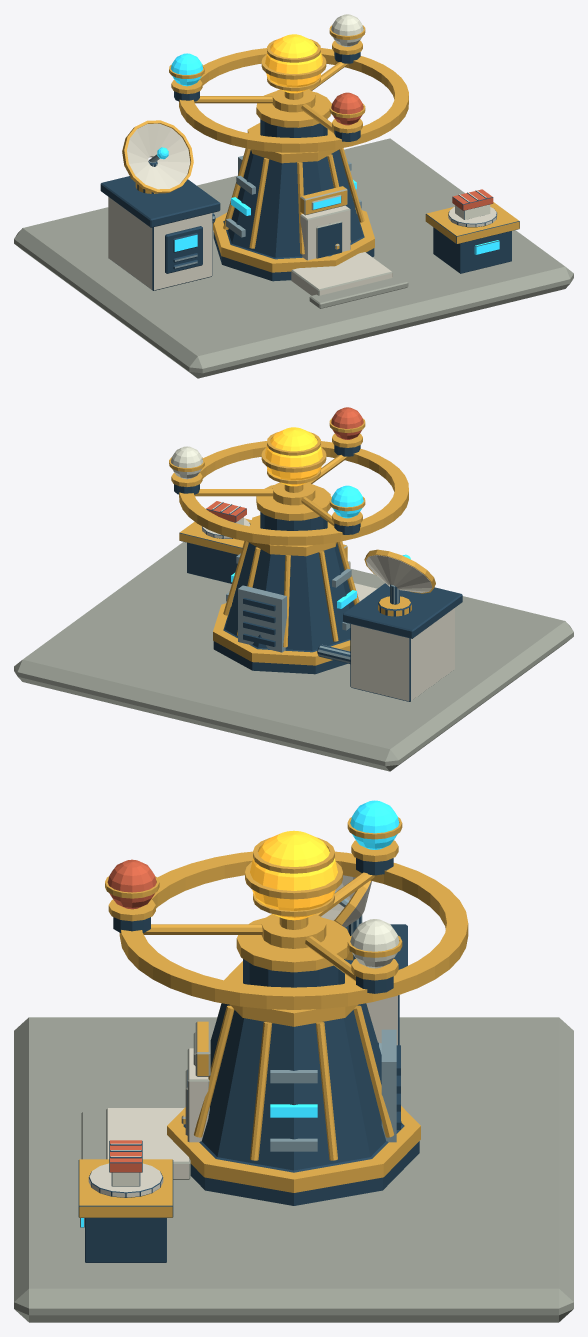
The model's file is sync-lv1.glb.
The picture shows the model from 3 angles, top to bottom: view 1: azimuth 30°, elevation 25°; view 2: azimuth 150°, elevation 25°; view 3: azimuth 270°, elevation 25°; orthographic projection. The views are drawn at different scales.
Visible parts, largest first — view 1: Sync_L1, Planetary_Rail, Concave_Dish; view 2: Sync_L1, Planetary_Rail, Concave_Dish; view 3: Sync_L1, Planetary_Rail, Concave_Dish.
Boxes of the visible parts, box(x1,y1,x2,y2) form: Sync_L1: box(14, 34, 573, 378); Planetary_Rail: box(169, 14, 408, 152); Concave_Dish: box(122, 120, 193, 193); Sync_L1: box(14, 427, 573, 771); Planetary_Rail: box(169, 407, 408, 545); Concave_Dish: box(364, 549, 435, 593); Sync_L1: box(14, 830, 573, 1322); Planetary_Rail: box(105, 800, 468, 1009); Concave_Dish: box(321, 875, 371, 927).
Bounding box in the file's own units: 5.4 × 3.12 × 4.5.
